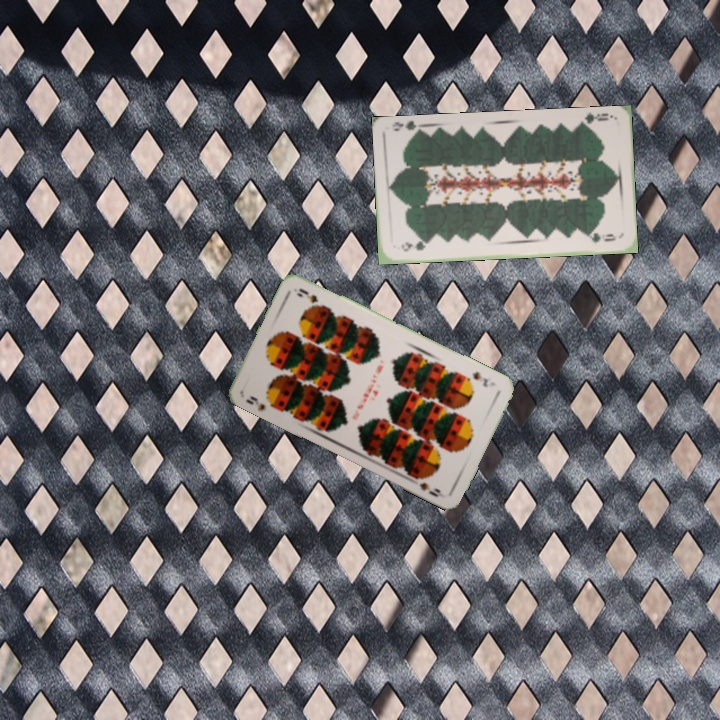G9: (575, 109, 615, 130), (397, 238, 431, 254)
S9: (242, 392, 279, 413), (468, 367, 499, 390)
